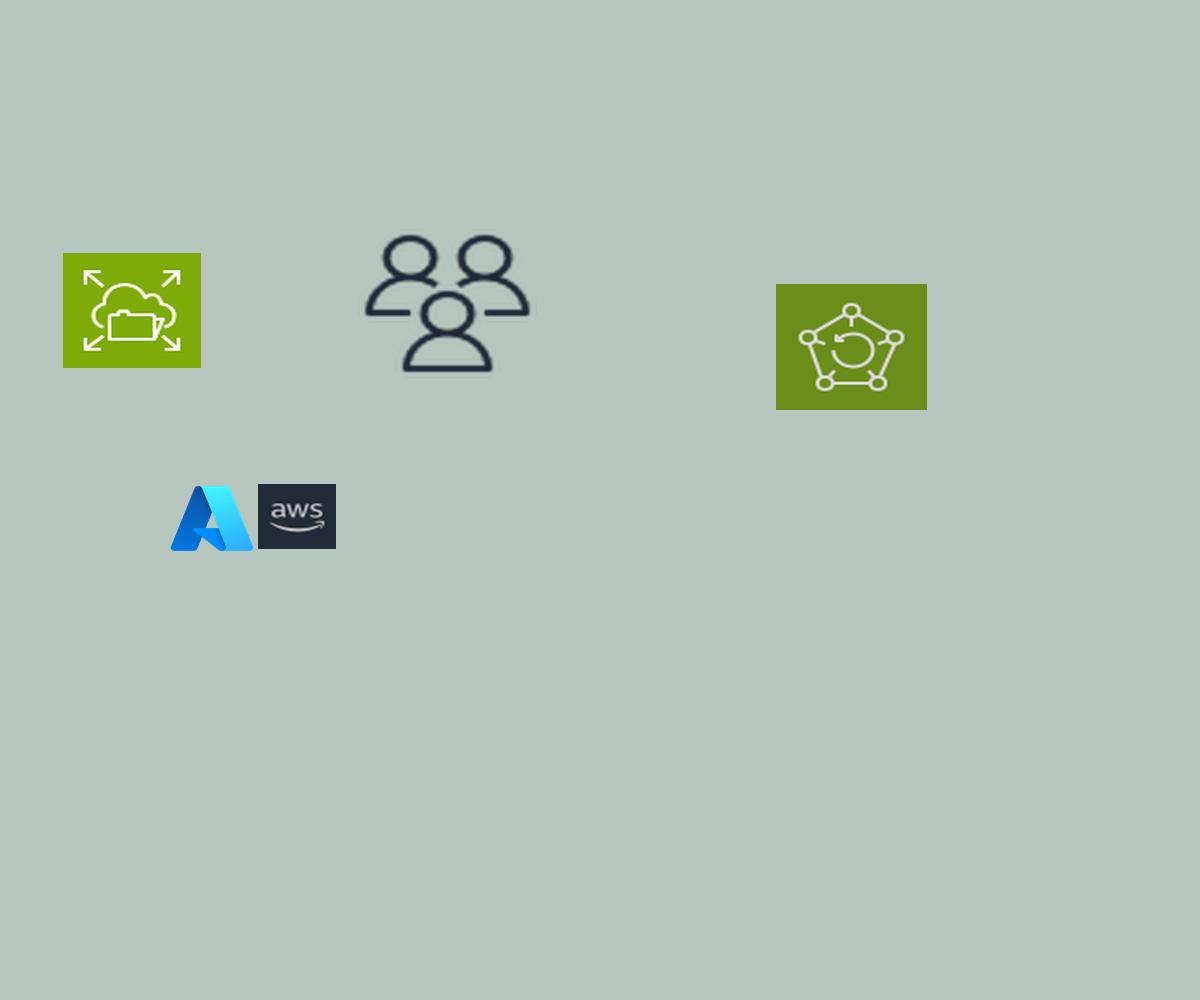AWS-Backup: (776, 284, 927, 410)
AWS-Cloud-logo: (258, 484, 336, 549)
AWS-EFS: (63, 253, 201, 368)
AWS-Res_Users: (358, 229, 537, 378)
Azure_services: (167, 481, 257, 556)
